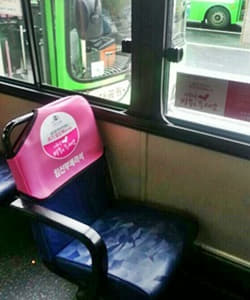seat: (11, 92, 197, 288)
